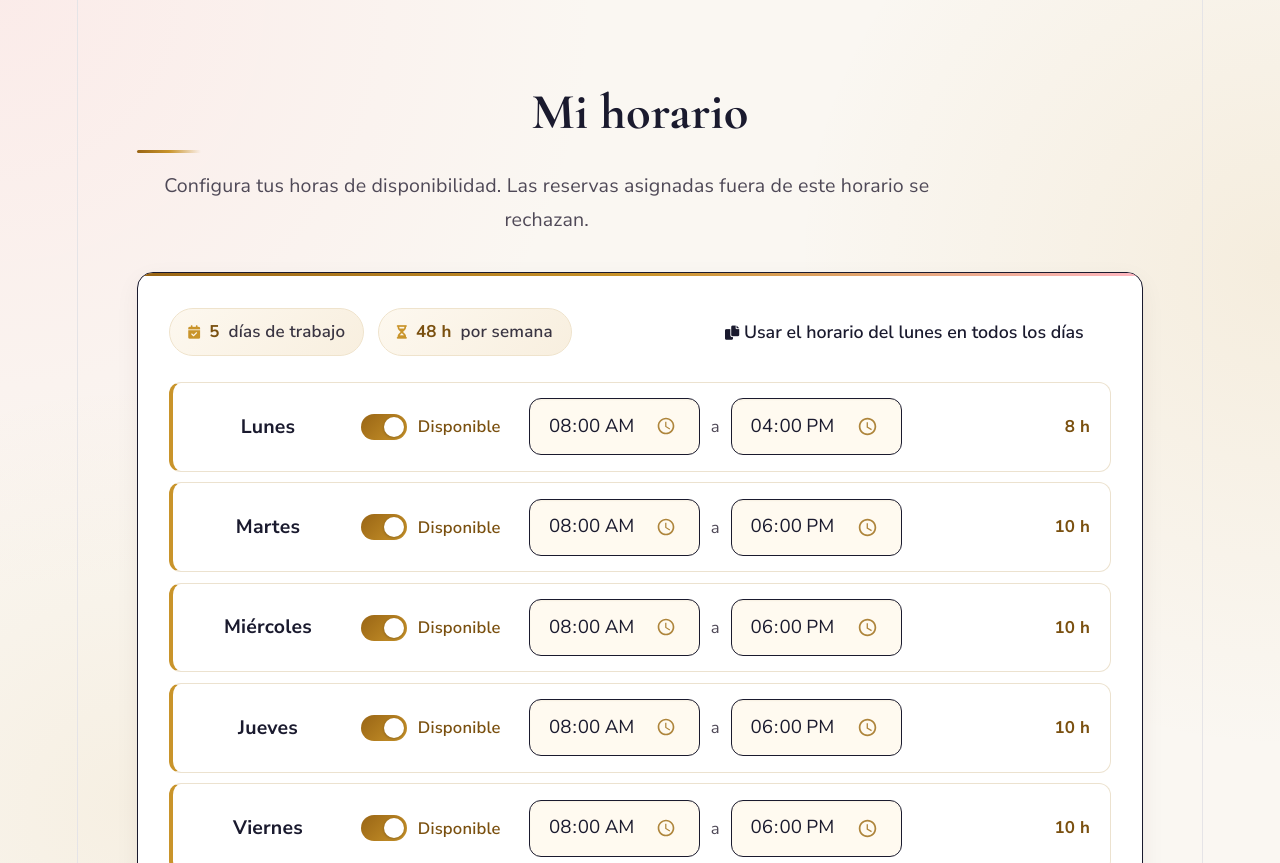
it: StylistSchedule › copia el horario del lunes a los días activos y guarda la semana completa
Click the button "Usar el horario del lunes en todos los días" at (904, 332), box [702,309,1106,355]
(page scrolled)
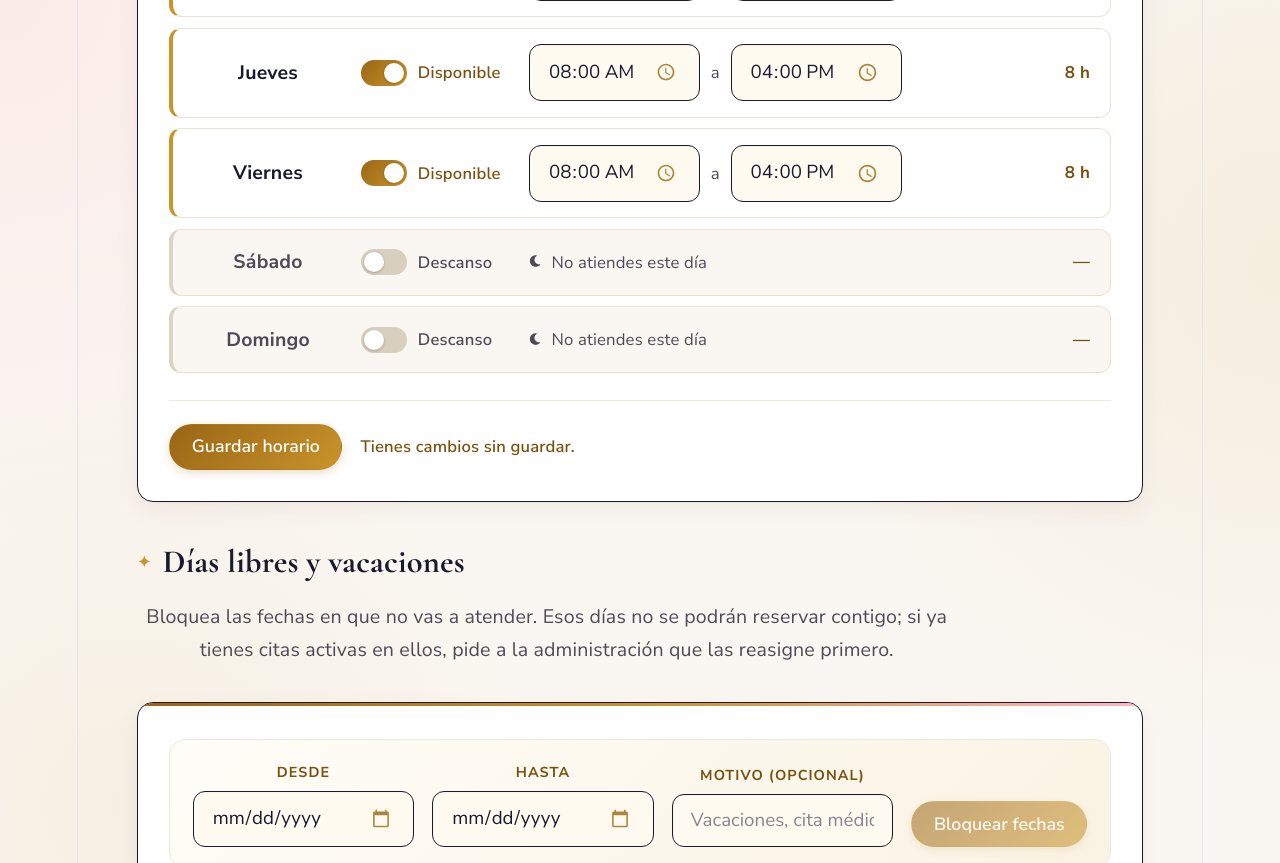
Result: the time field named "Viernes: hasta" holds "16:00" at [731,145,902,202]
Click the button "Guardar horario" at (256, 447), box [169,424,342,470]
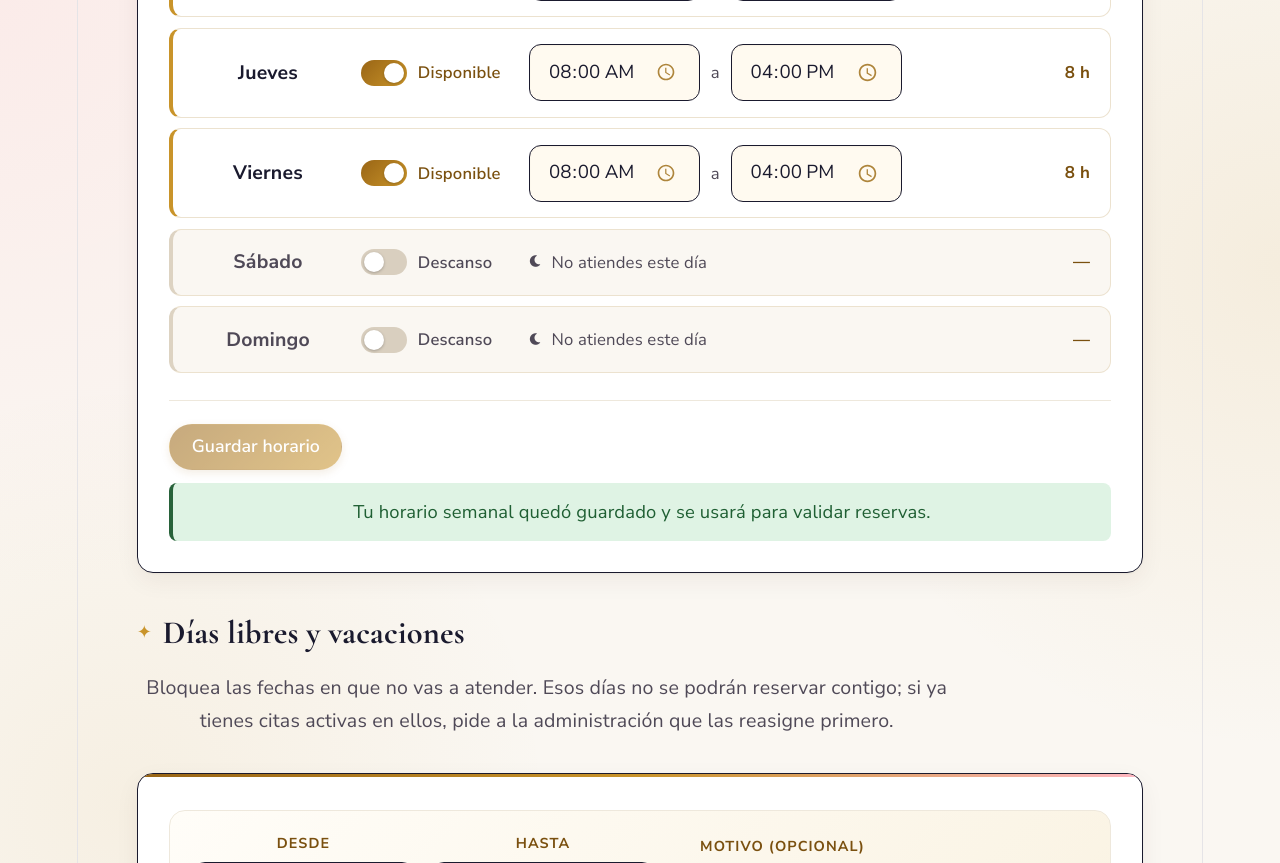
Result: the text "Tu horario semanal quedó guardado y se usará para validar reservas." is shown at [169,483,1111,541]
